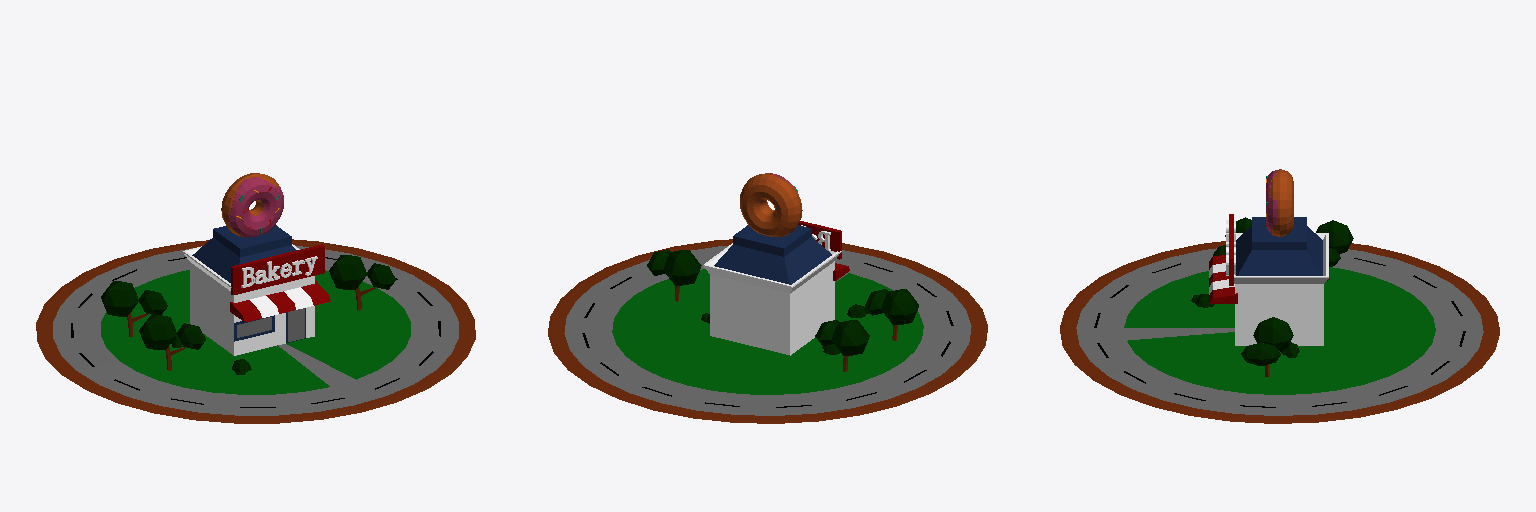
The model's file is Bakery_1243.obj.
The picture shows the model from 3 angles: view 1: azimuth 30°, elevation 25°; view 2: azimuth 150°, elevation 25°; view 3: azimuth 270°, elevation 25°; orthographic projection.
Visible parts, largest first — view 1: Sphere001, Box001; view 2: Sphere001, Box001; view 3: Sphere001, Box001.
Boxes of the visible parts, <box> form: Sphere001: <box>36,239,475,423</box>; Box001: <box>183,173,330,355</box>; Sphere001: <box>548,239,987,423</box>; Box001: <box>703,173,849,355</box>; Sphere001: <box>1060,217,1499,423</box>; Box001: <box>1209,169,1328,345</box>.
Bounding box in the file's own units: 144 × 59.25 × 144.